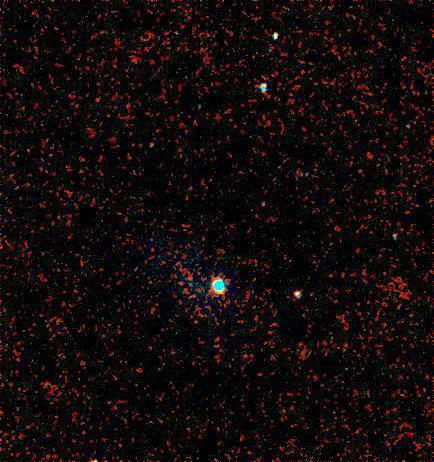star: (81, 440, 111, 462)
